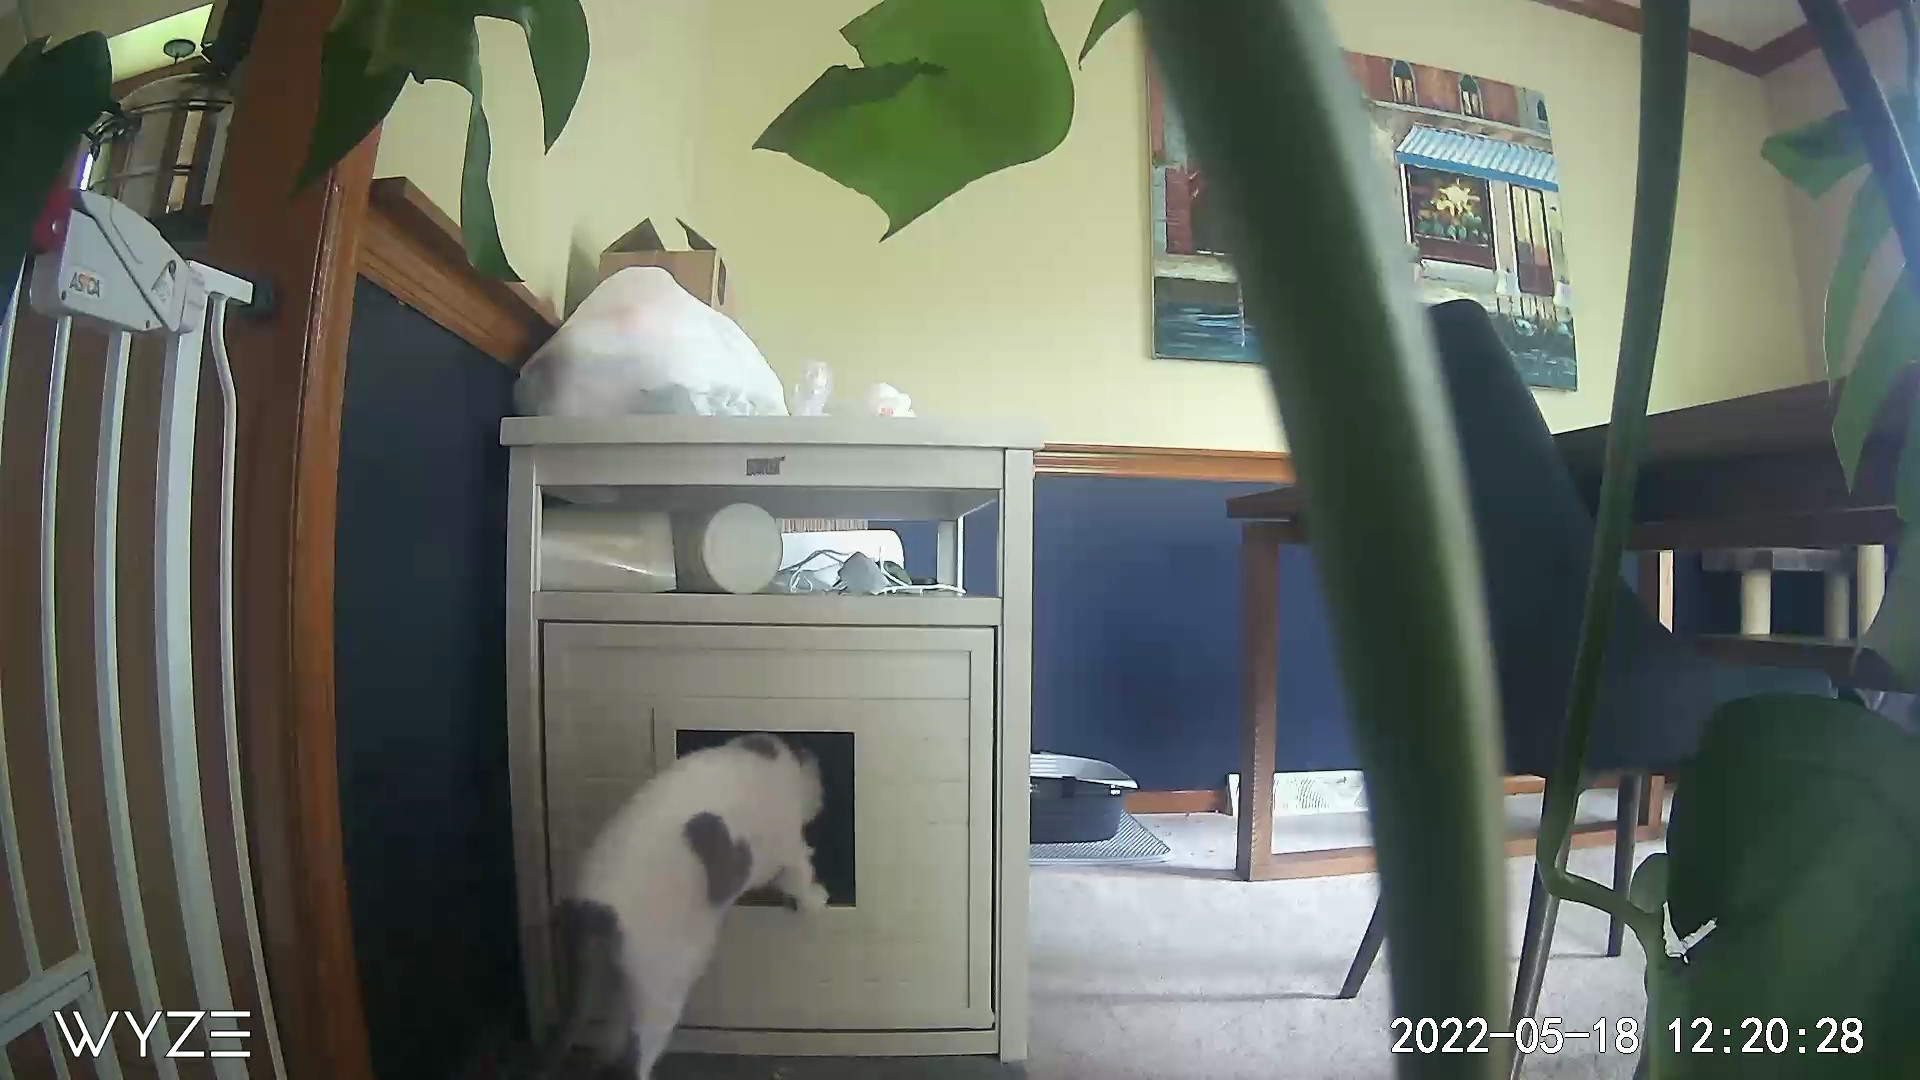maoxin: (526, 731, 837, 1062)
